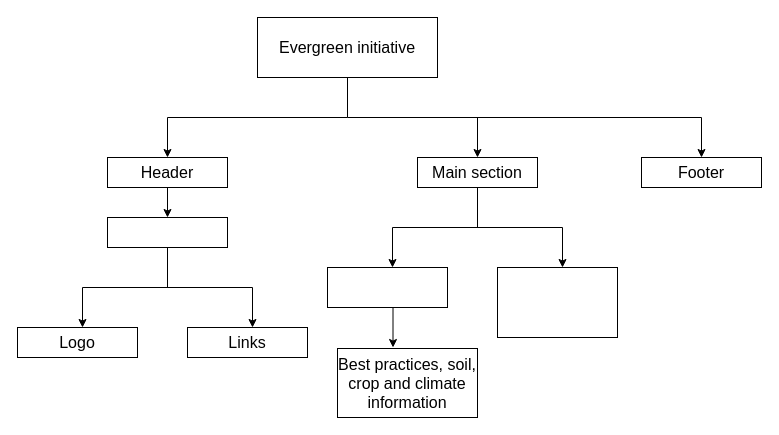
This 779x435 diagram has some shape labels left out. The shapes that lost their labels are listed below. From the top down, each one's centre as x and y in pixels, then its label:
At point 167,232: "Nav bar".
At point 387,287: "Location component".
At point 557,302: "Request for resources component".
